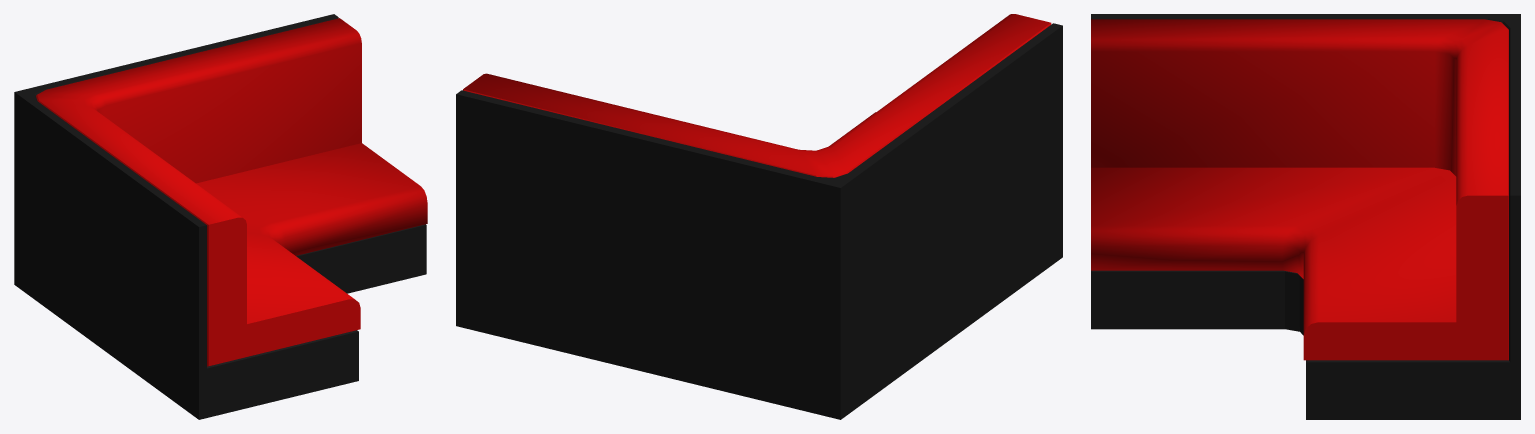
File: sofaCorner.fbx
The picture shows the model from 3 angles, left to right: view 1: azimuth 30°, elevation 25°; view 2: azimuth 150°, elevation 25°; view 3: azimuth 270°, elevation 25°; orthographic projection. The views are drawn at different scales.
Parts seen in each view (by area): view 1: sofaCorner; view 2: sofaCorner; view 3: sofaCorner.
Part boxes in pixels (x1,y1,x2,y2): sofaCorner: (14,14,427,419); sofaCorner: (456,14,1062,419); sofaCorner: (1091,14,1520,419).
Bounding box in the file's own units: 2000 × 1152 × 2000.
